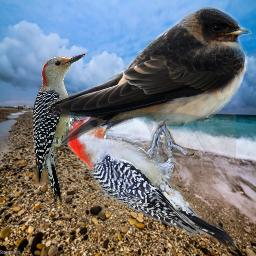Swallow: (47, 6, 252, 146)
Woodpecker: (68, 113, 236, 250), (33, 50, 90, 212)
